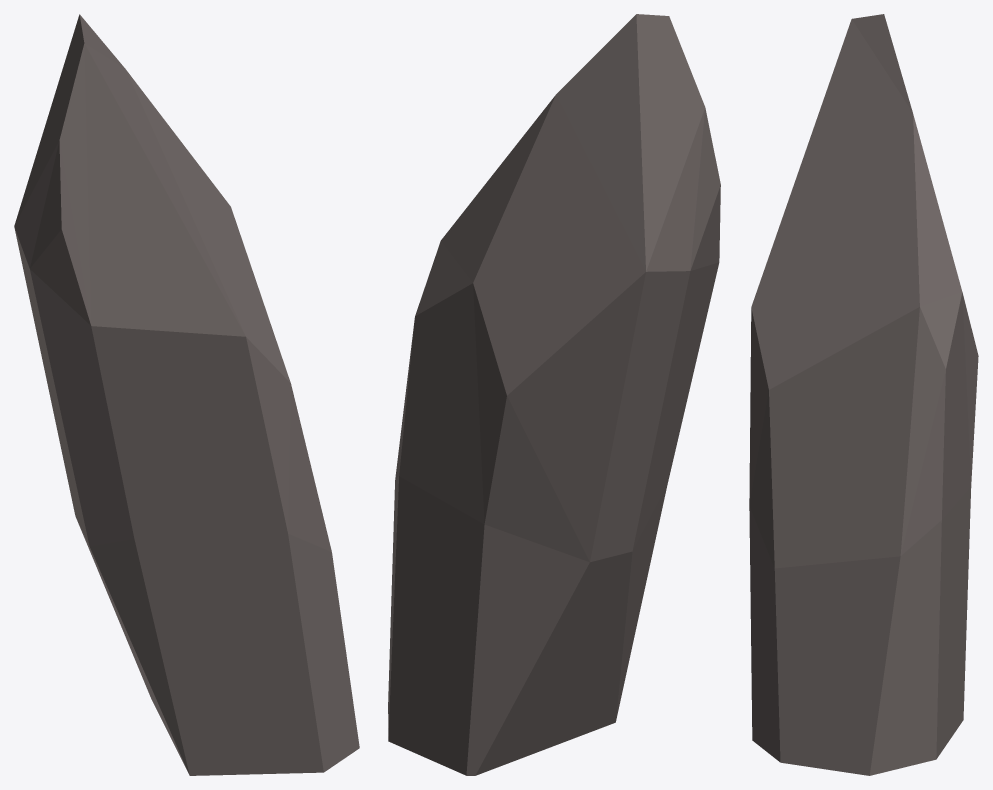
Rendered from Rock_Sharp_m_05.fbx.
The picture shows the model from 3 angles, left to right: view 1: azimuth 30°, elevation 25°; view 2: azimuth 150°, elevation 25°; view 3: azimuth 270°, elevation 25°; orthographic projection. The views are drawn at different scales.
Parts seen in each view (by area): view 1: Rock_Sharp_m_05; view 2: Rock_Sharp_m_05; view 3: Rock_Sharp_m_05.
Boxes of the visible parts, x1,y1,x2,y2 form: Rock_Sharp_m_05: (14, 14, 359, 775); Rock_Sharp_m_05: (388, 14, 720, 775); Rock_Sharp_m_05: (749, 14, 978, 775).
Bounding box in the file's own units: 74.43 × 175 × 55.42.
